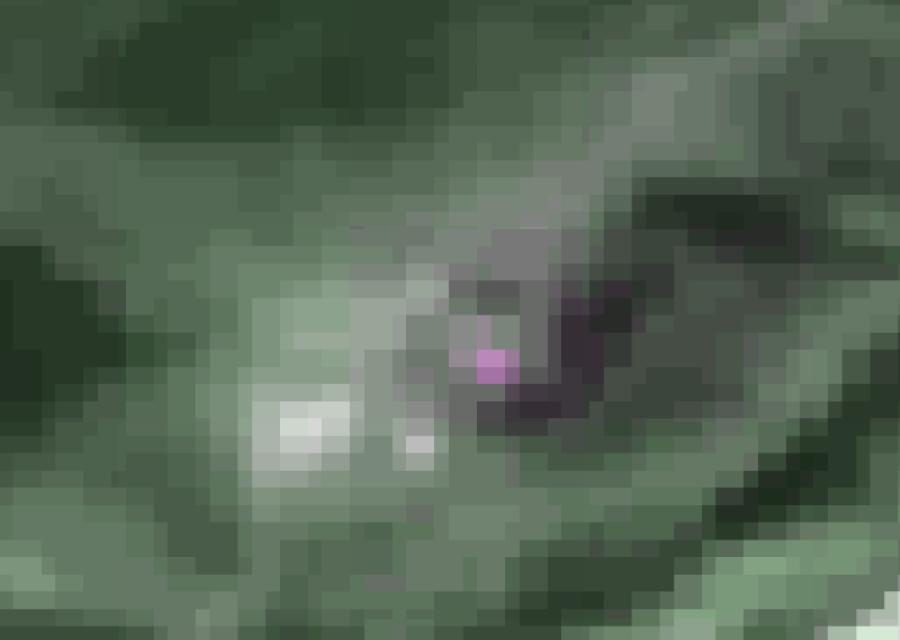Potential Lime Manufacturing Facility: (479, 351, 517, 382)
